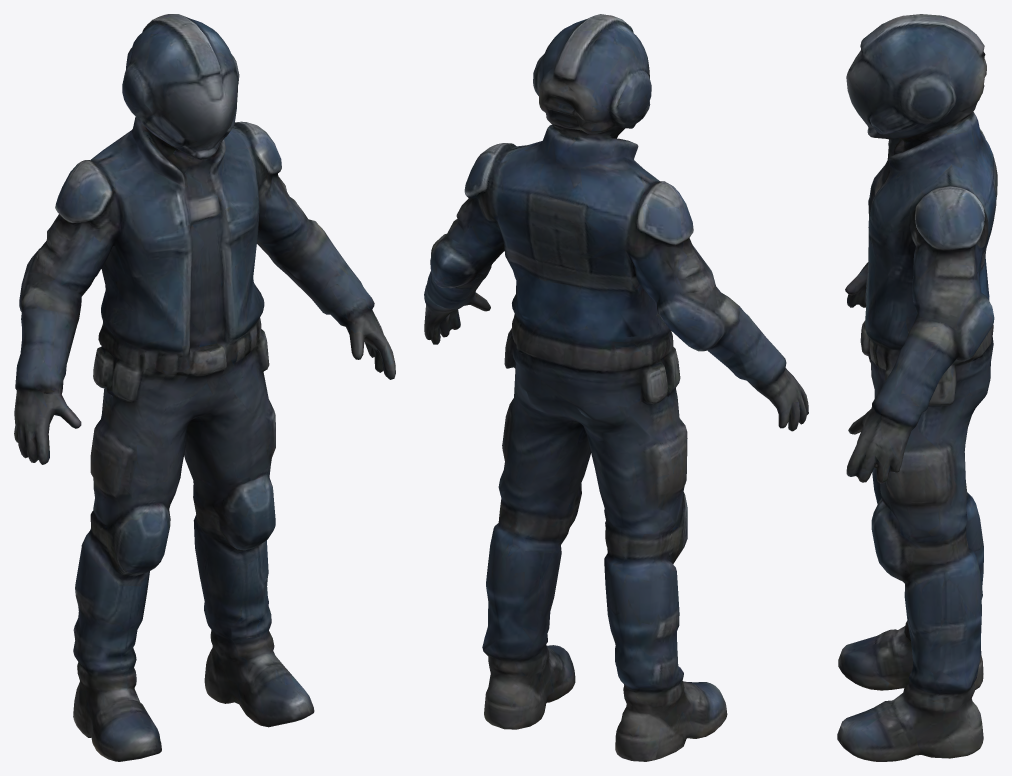
Rendered from civilian.glb.
3 renders of one model, left to right at view 1: azimuth 30°, elevation 25°; view 2: azimuth 150°, elevation 25°; view 3: azimuth 270°, elevation 25°, orthographic.
Bounding box in the file's own units: 1.1 × 2 × 0.4163.
Materials: 1 (1 with a texture image).
